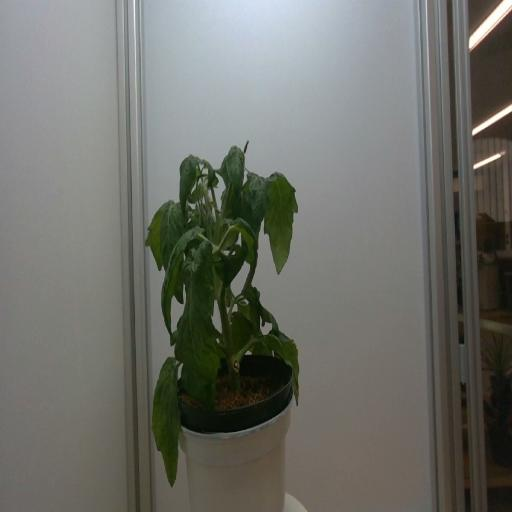Tomato-Leaves-Cupboard-: (172, 236, 218, 410), (160, 222, 202, 342), (150, 351, 184, 499), (263, 167, 300, 274), (263, 323, 306, 412), (162, 192, 188, 308), (222, 212, 257, 286), (245, 285, 283, 352), (229, 303, 259, 363), (144, 202, 166, 272), (175, 158, 199, 217), (220, 185, 253, 227), (249, 168, 269, 232), (215, 246, 246, 287), (222, 142, 244, 199), (184, 178, 205, 204), (205, 160, 222, 190), (165, 323, 181, 347)
